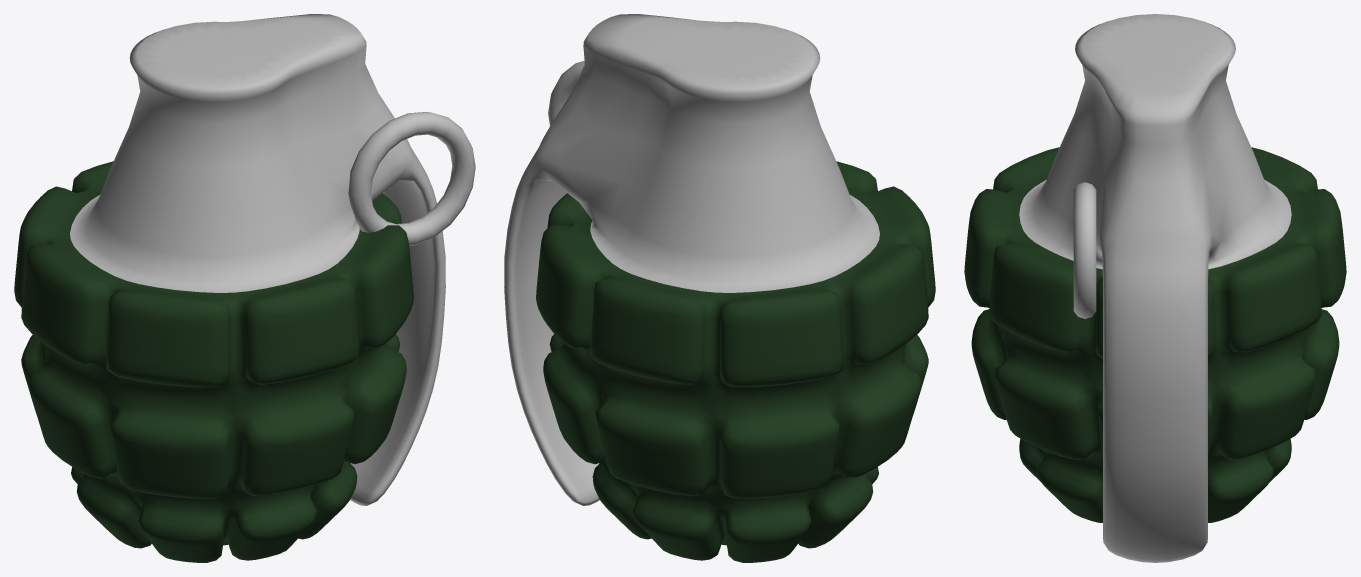
Rendered from Grenade.fbx.
3 renders of one model, left to right at view 1: azimuth 30°, elevation 25°; view 2: azimuth 150°, elevation 25°; view 3: azimuth 270°, elevation 25°, orthographic. The views are drawn at different scales.
Visible parts, largest first — view 1: Grenade; view 2: Grenade; view 3: Grenade.
Part boxes in pixels (bbox=[...]): Grenade: bbox=[14, 14, 475, 562]; Grenade: bbox=[504, 14, 935, 562]; Grenade: bbox=[964, 14, 1346, 562].
Bounding box in the file's own units: 13266 × 11608 × 15414.
